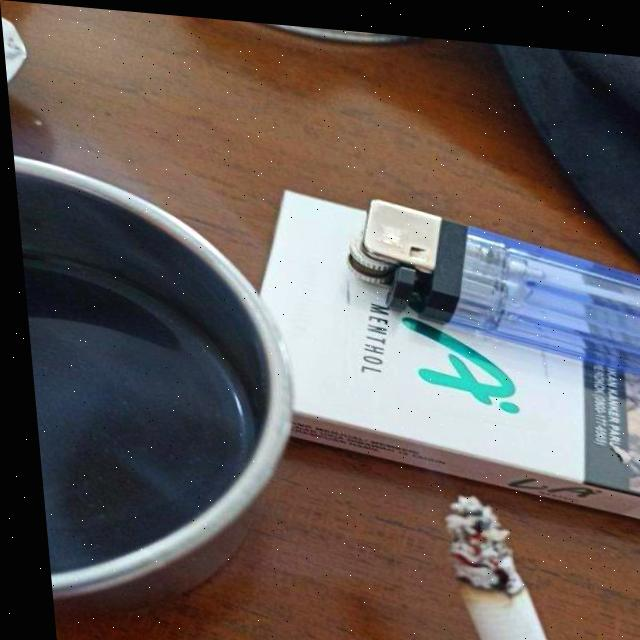cigarette: (434, 487, 558, 640)
